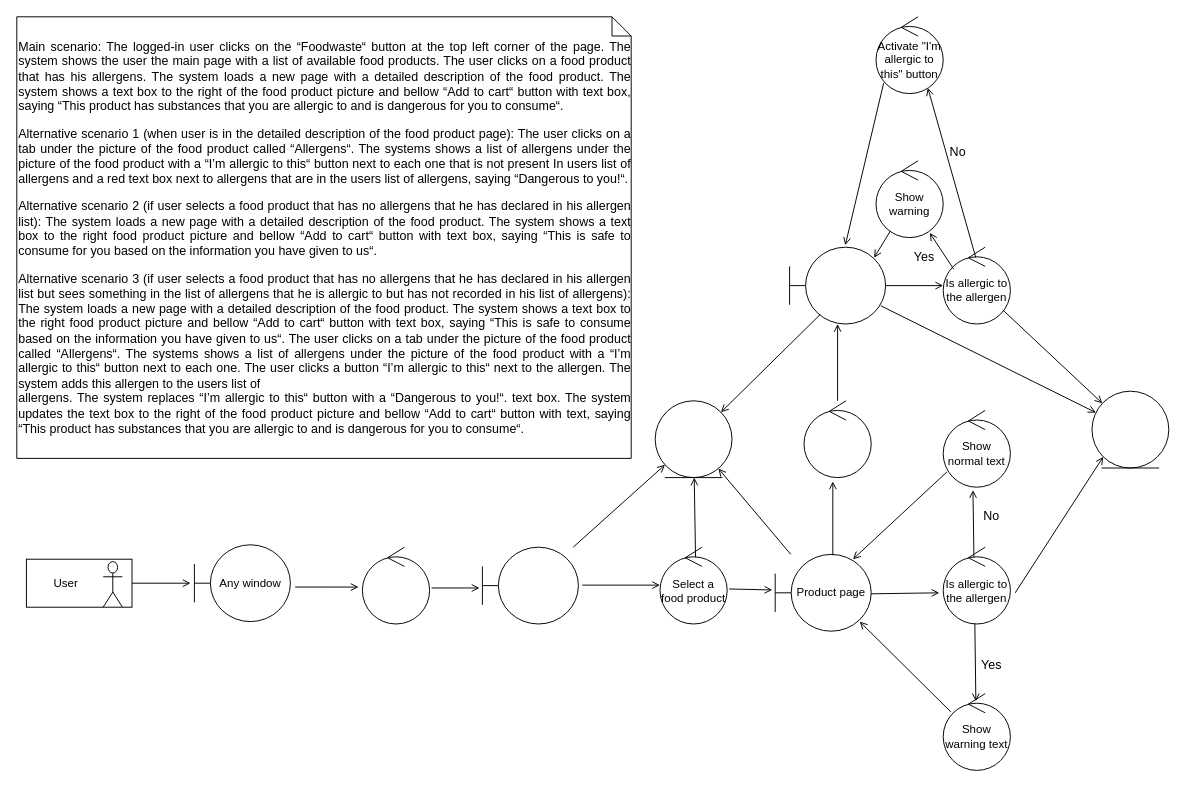
Some shapes in this 1186 by 787 pixel diagram are drawn without their labels. The shapes that lost their labels are listed below. From the top down, each one's centre as x and y in pixels, then its label:
(837,285): Food product allergens tab
(693,439): Food products
(837,439): Press "Allergens" tab
(1130,429): Allergen
(395,585): Press "Foodwaste" button
(529,585): Main page
